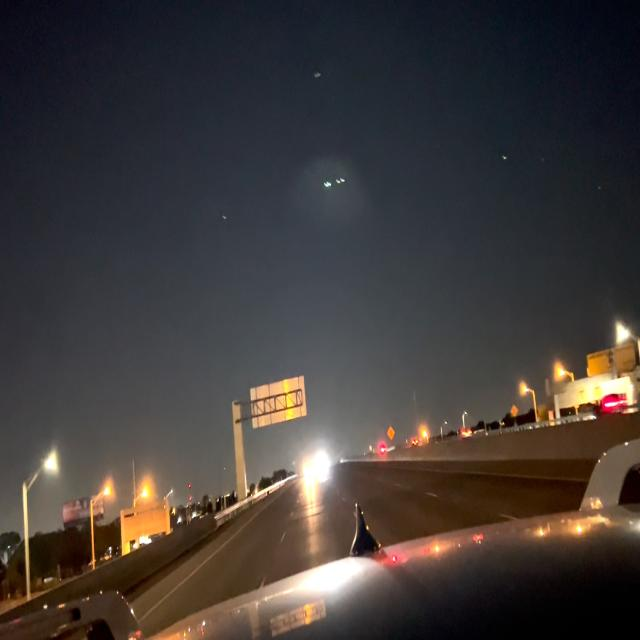back-of-sign: (250, 377, 307, 429)
